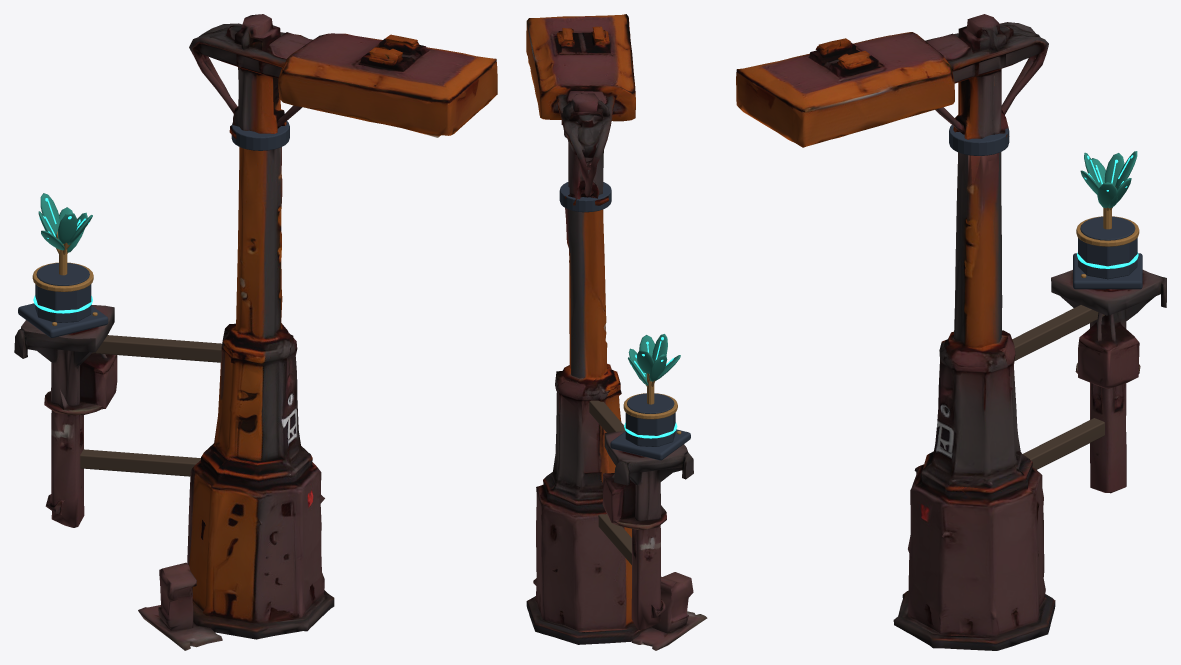
Rendered from 08_street_lamp.glb.
3 views of the same model, side by side, from view 1: azimuth 30°, elevation 25°; view 2: azimuth 150°, elevation 25°; view 3: azimuth 270°, elevation 25° (orthographic). The views are drawn at different scales.
Visible parts, largest first — view 1: tripo_node_b369cdad-33bf-4cea-916a-42822d021d60, LOCAL_lamp_control_box_bracket.001, LOCAL_lamp_control_box_bracket, LOCAL_electronic_planter, LOCAL_planter_mount_plate, LOCAL_lamp_swivel_collar, LOCAL_planter_substrate; view 2: tripo_node_b369cdad-33bf-4cea-916a-42822d021d60, LOCAL_electronic_planter, LOCAL_planter_mount_plate, LOCAL_lamp_swivel_collar, LOCAL_lamp_control_box_bracket, LOCAL_planter_substrate, LOCAL_lamp_control_box_bracket.001, LOCAL_planter_upper_rim, LOCAL_circuit_leaf.005, LOCAL_circuit_leaf.004; view 3: tripo_node_b369cdad-33bf-4cea-916a-42822d021d60, LOCAL_lamp_control_box_bracket.001, LOCAL_electronic_planter, LOCAL_lamp_control_box_bracket, LOCAL_planter_mount_plate, LOCAL_lamp_swivel_collar, LOCAL_planter_substrate.
Part boxes in pixels (bbox=[...]): tripo_node_b369cdad-33bf-4cea-916a-42822d021d60: bbox=[14, 14, 497, 650]; LOCAL_lamp_control_box_bracket.001: bbox=[92, 335, 221, 362]; LOCAL_lamp_control_box_bracket: bbox=[80, 449, 200, 476]; LOCAL_electronic_planter: bbox=[35, 284, 91, 322]; LOCAL_planter_mount_plate: bbox=[18, 303, 108, 337]; LOCAL_lamp_swivel_collar: bbox=[231, 121, 289, 150]; LOCAL_planter_substrate: bbox=[36, 263, 89, 285]; tripo_node_b369cdad-33bf-4cea-916a-42822d021d60: bbox=[526, 14, 707, 650]; LOCAL_electronic_planter: bbox=[625, 412, 675, 446]; LOCAL_planter_mount_plate: bbox=[610, 429, 690, 460]; LOCAL_lamp_swivel_collar: bbox=[559, 182, 611, 212]; LOCAL_lamp_control_box_bracket: bbox=[598, 514, 631, 564]; LOCAL_planter_substrate: bbox=[627, 393, 674, 413]; LOCAL_lamp_control_box_bracket.001: bbox=[589, 400, 625, 432]; LOCAL_planter_upper_rim: bbox=[623, 393, 677, 419]; LOCAL_circuit_leaf.005: bbox=[637, 350, 654, 374]; LOCAL_circuit_leaf.004: bbox=[649, 354, 667, 381]; tripo_node_b369cdad-33bf-4cea-916a-42822d021d60: bbox=[736, 14, 1166, 650]; LOCAL_lamp_control_box_bracket.001: bbox=[1012, 305, 1104, 361]; LOCAL_electronic_planter: bbox=[1078, 238, 1137, 279]; LOCAL_lamp_control_box_bracket: bbox=[1022, 418, 1104, 469]; LOCAL_planter_mount_plate: bbox=[1073, 253, 1142, 289]; LOCAL_lamp_swivel_collar: bbox=[949, 125, 1009, 155]; LOCAL_planter_substrate: bbox=[1080, 216, 1135, 240].
Bounding box in the file's own units: 1.64 × 2.8 × 1.79.
Materials: 6 (1 with a texture image).
